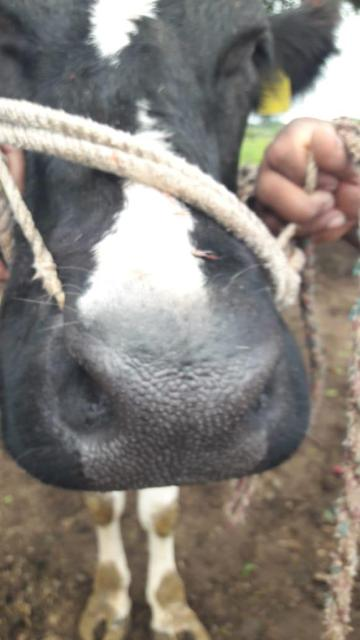Muzzle: (93, 330, 268, 480)
